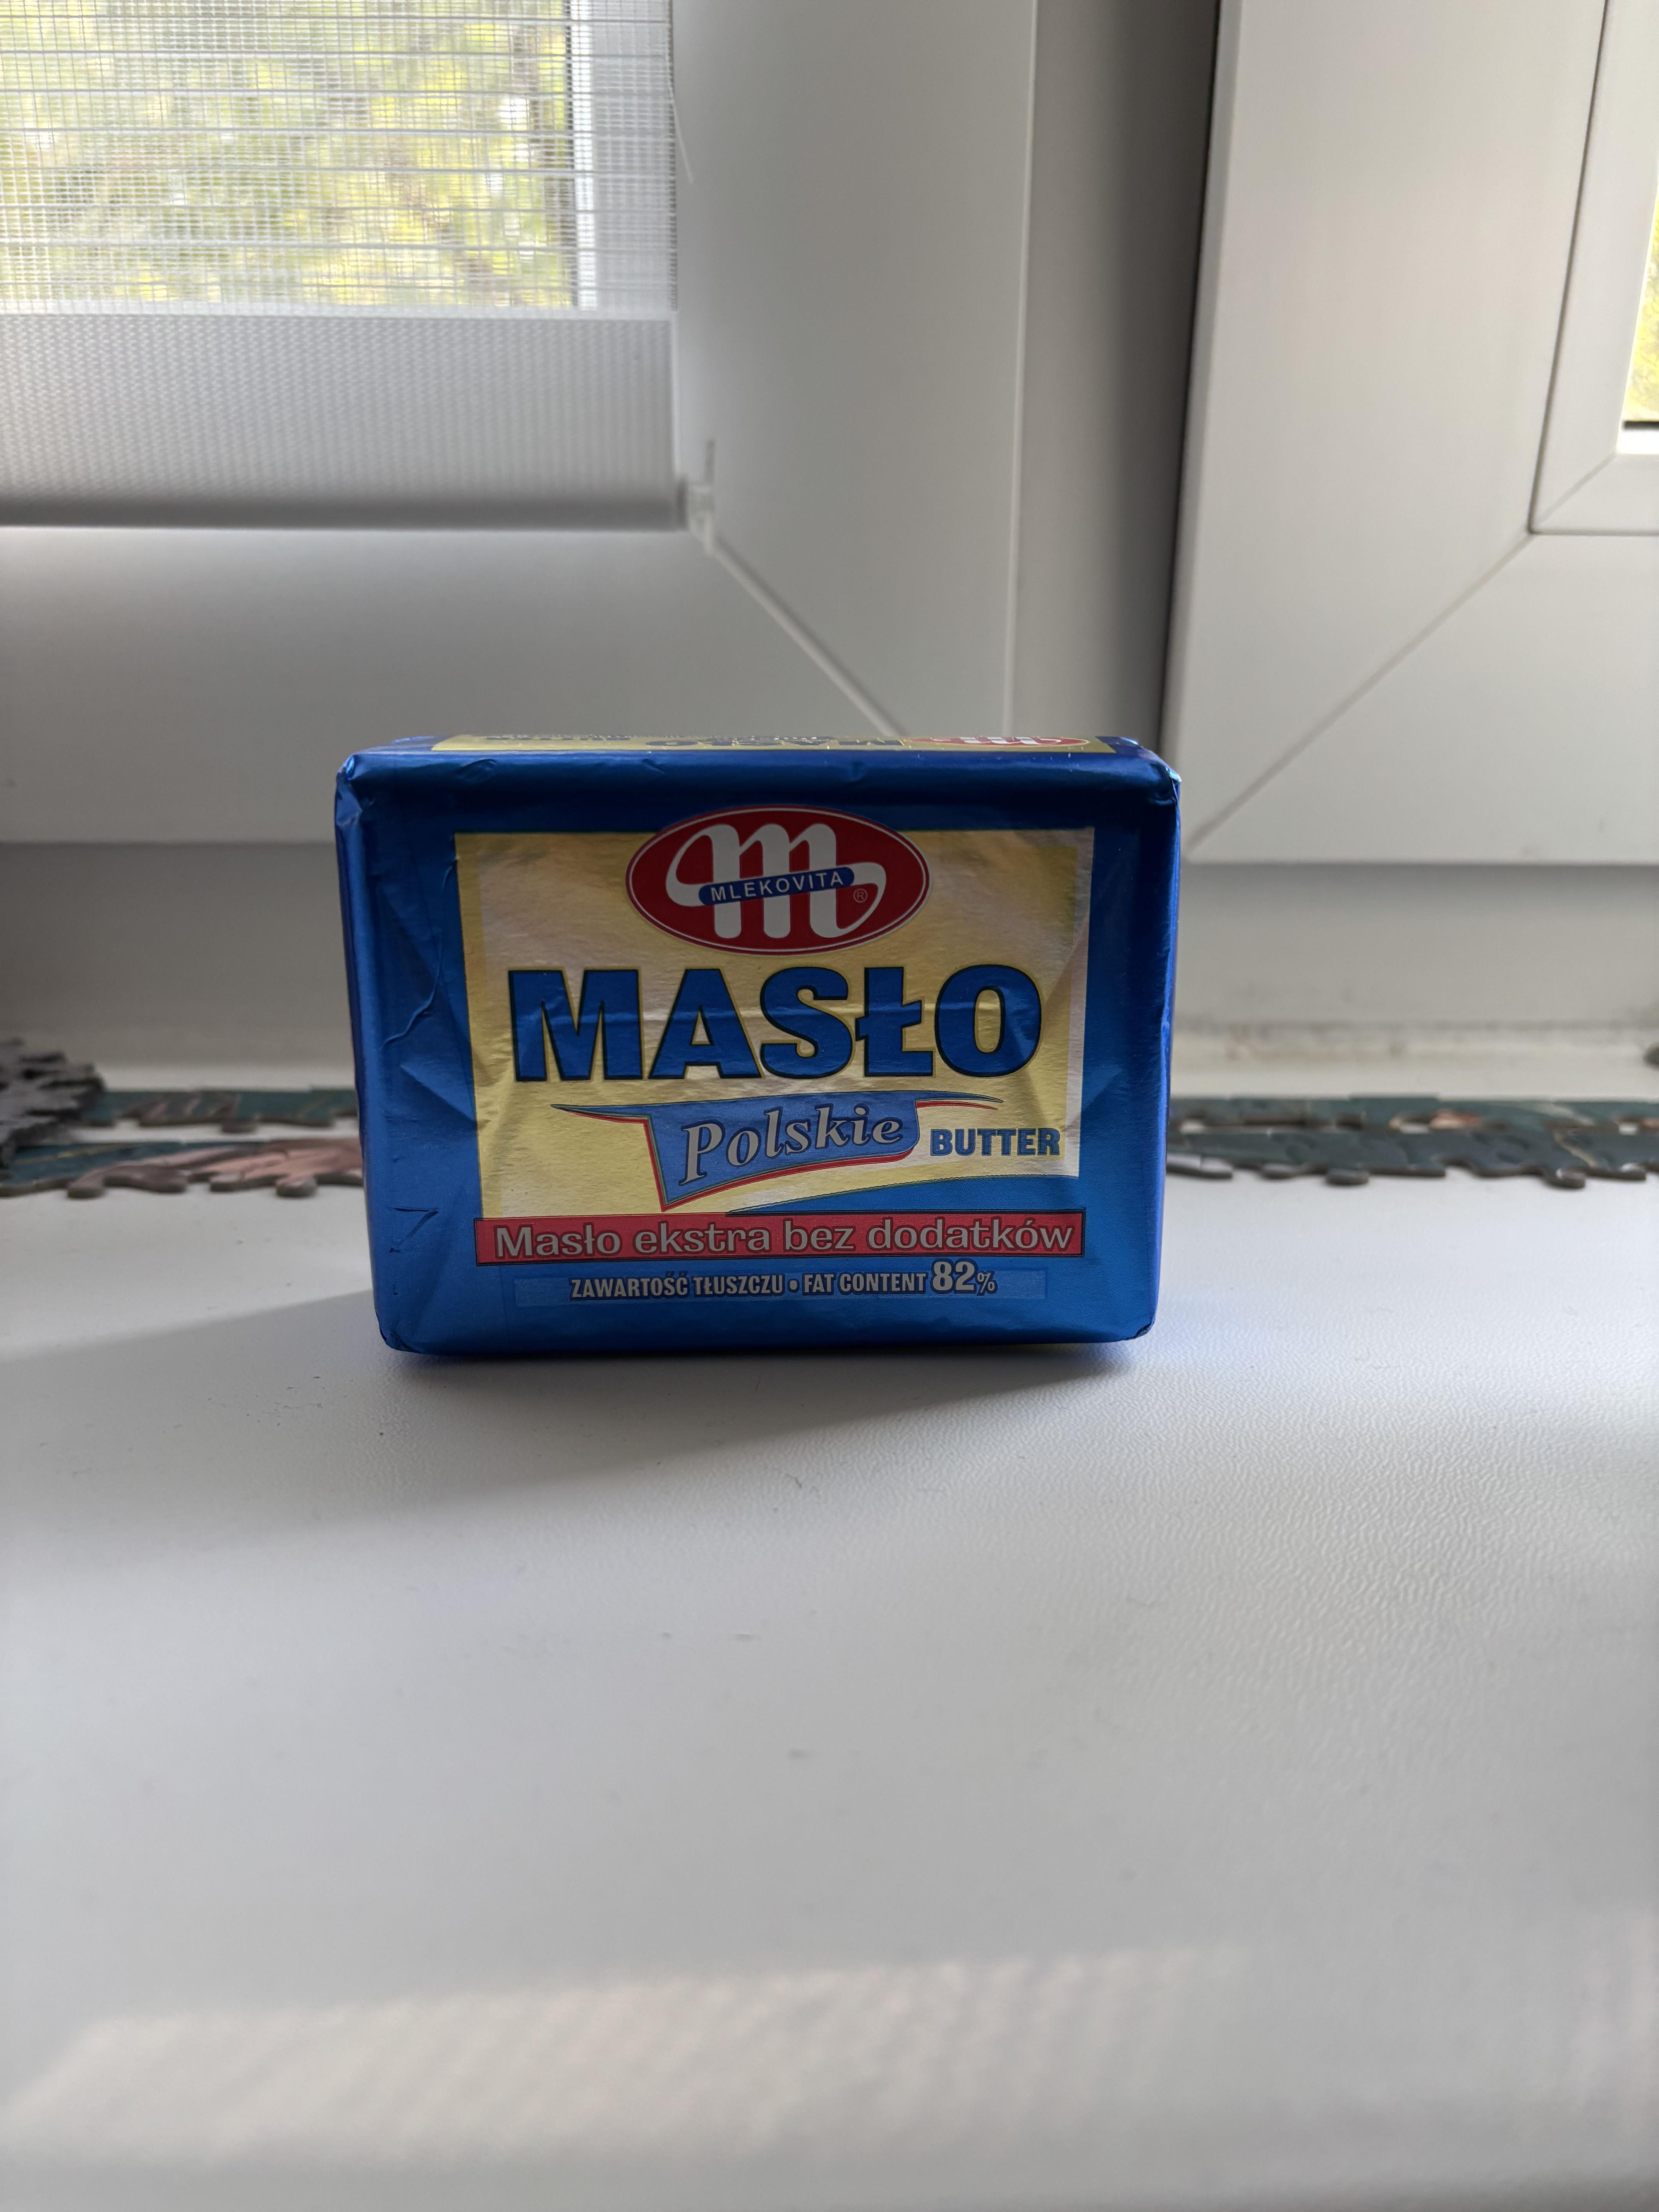Butter: (321, 745, 1173, 1350)
